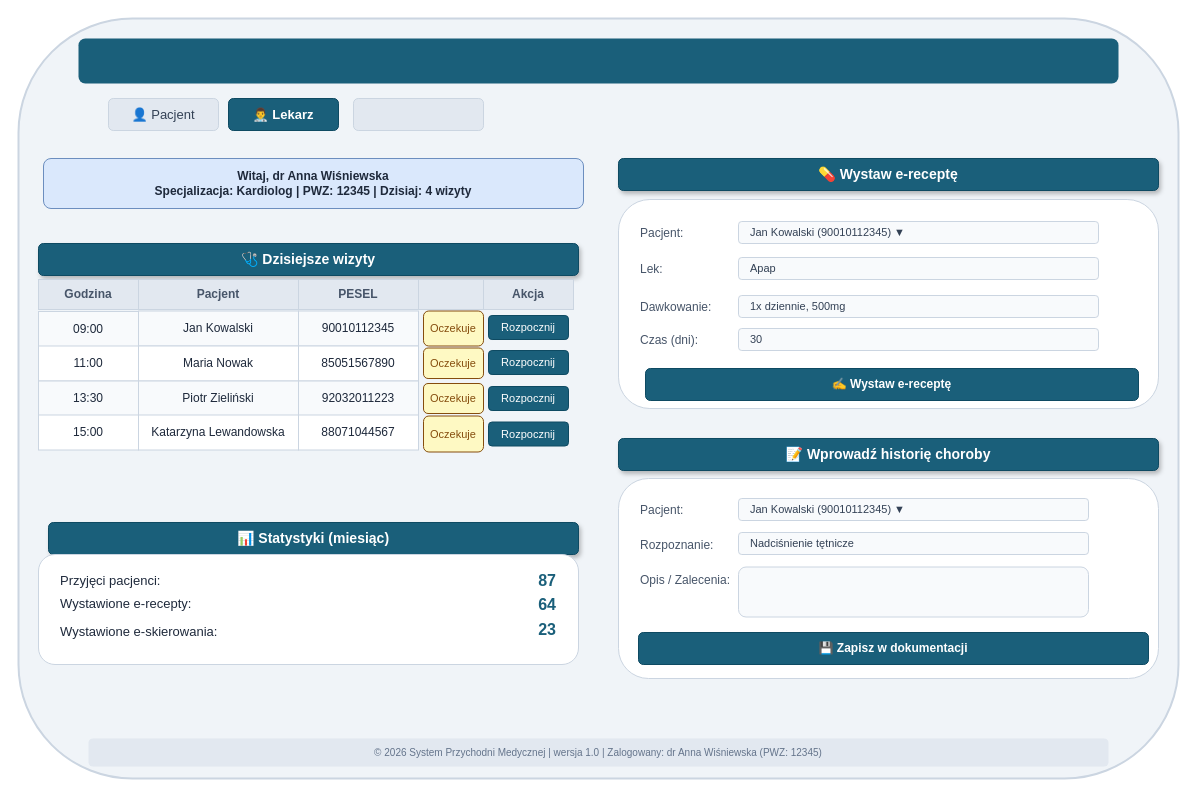
Image size: 1196x796. Some labels were removed from this diagram. Here are the shapes that lost their labels. From the top down, the centre of each, then its label:
At (x=598, y=60): "🩺 System Przychodni Medycznej".
At (x=418, y=114): "📋 Recepcjonista".
At (x=453, y=294): "Status".
At (x=913, y=591): "Ciśnienie 140/90. Zalecana zmiana diety, regularne ćwiczenia.".
